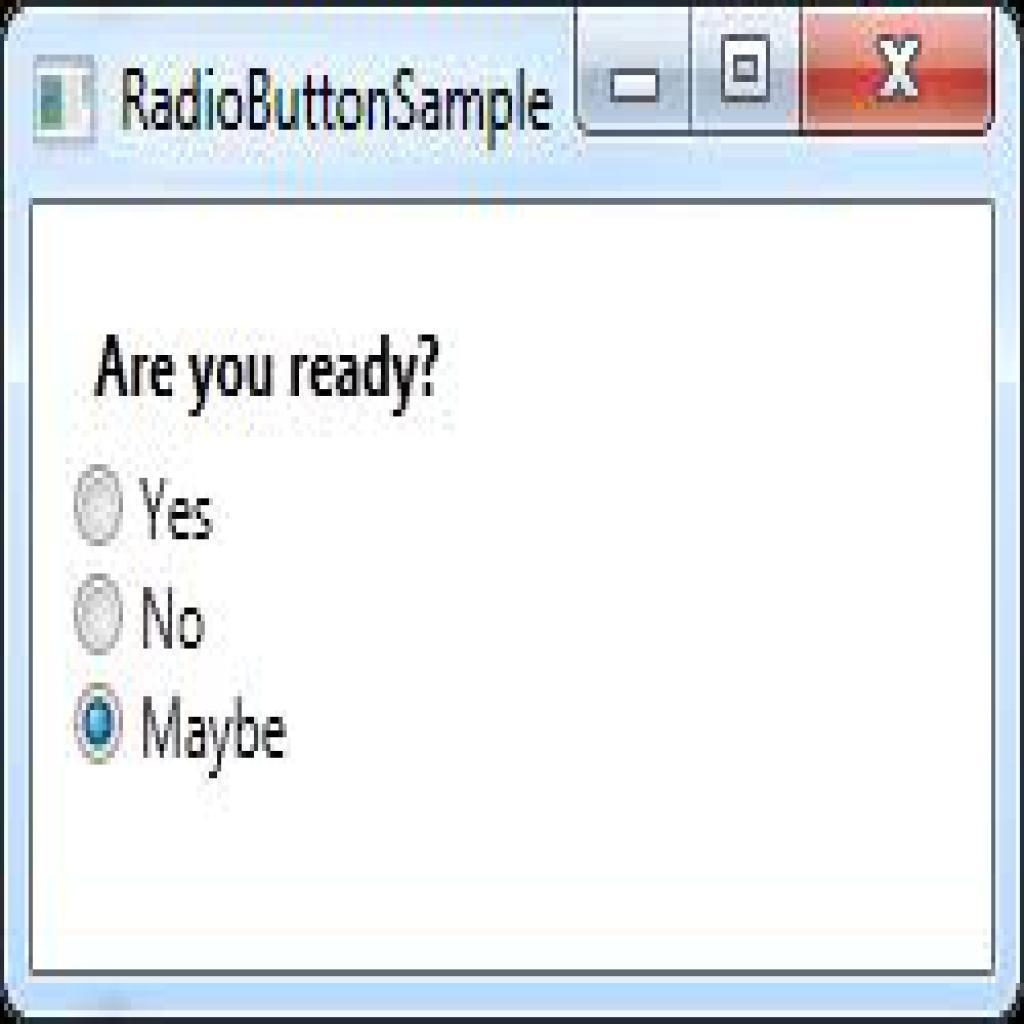button: (72, 682, 134, 767)
radio: (70, 570, 132, 658), (69, 464, 130, 553)
